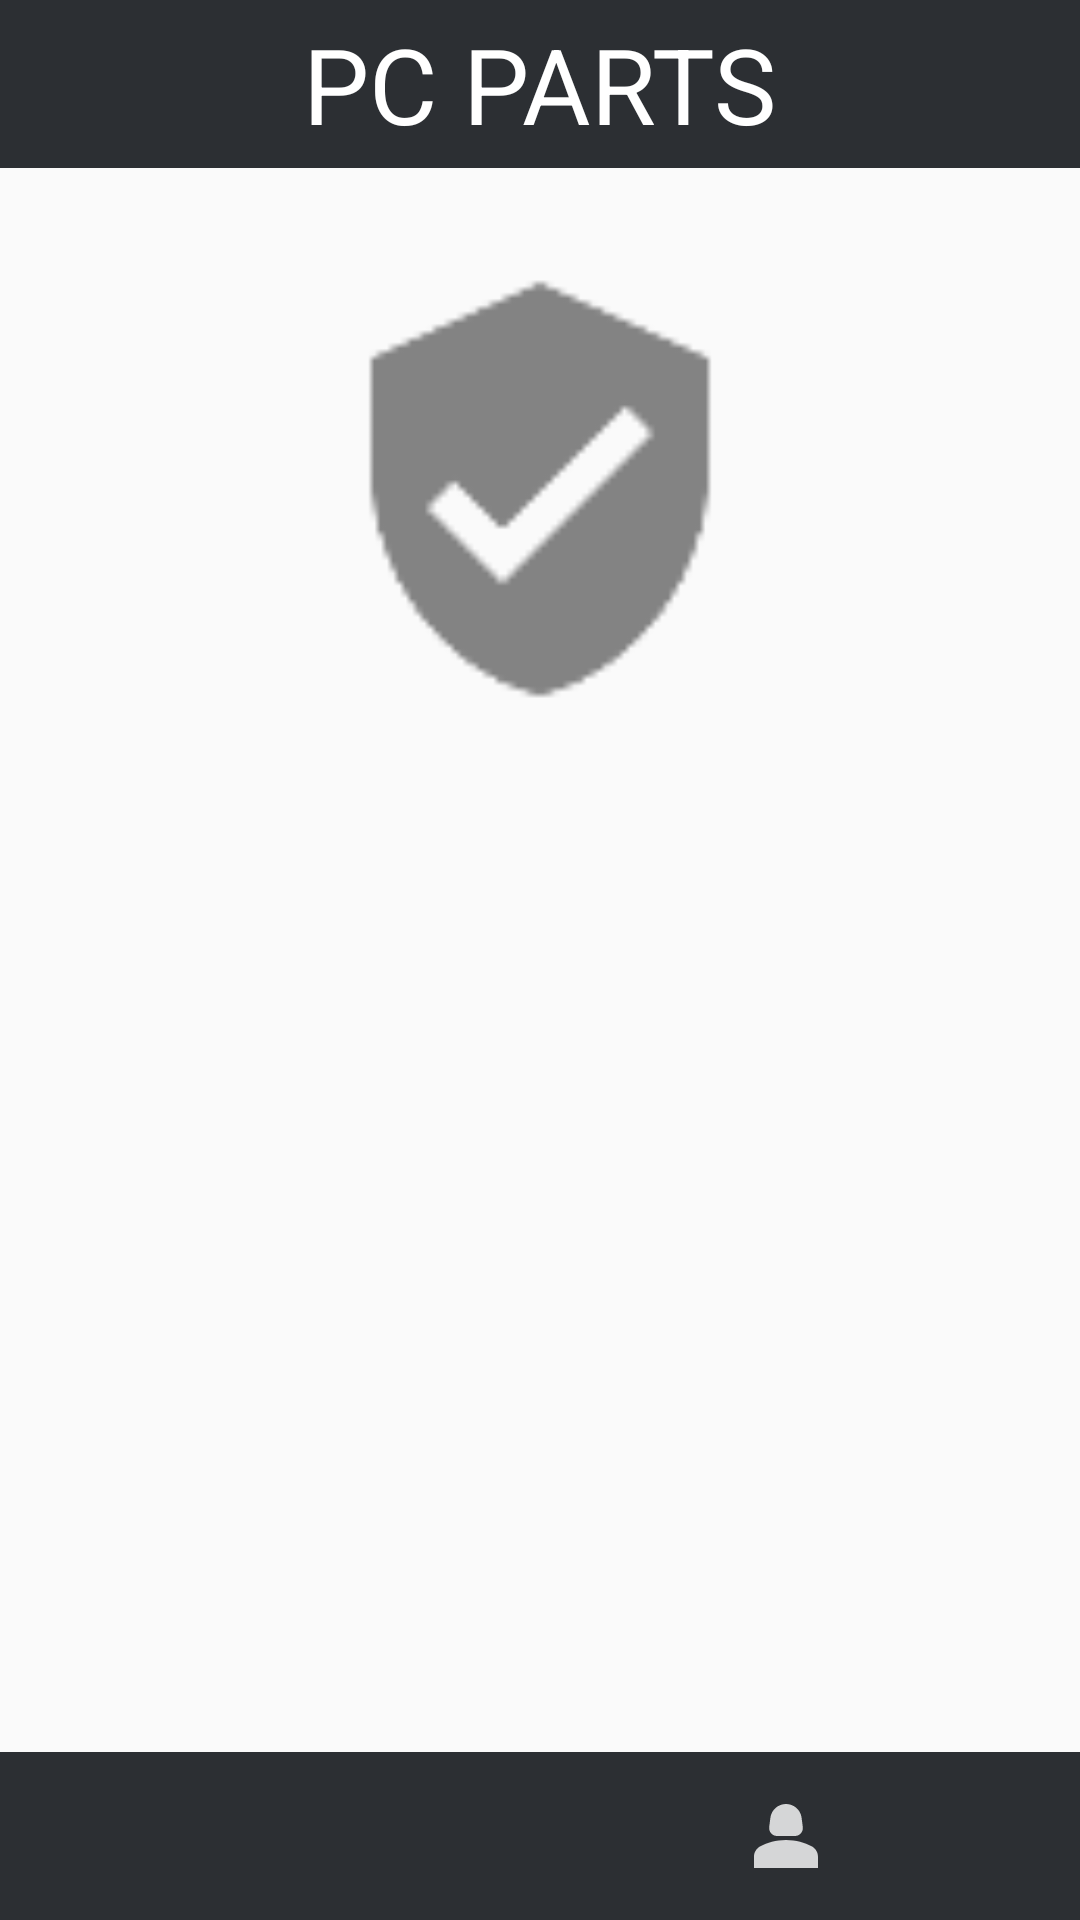

Icons on this 1080 x 1920 Android screen, each with the point to tap as (x,y):
user: (786,1836)
